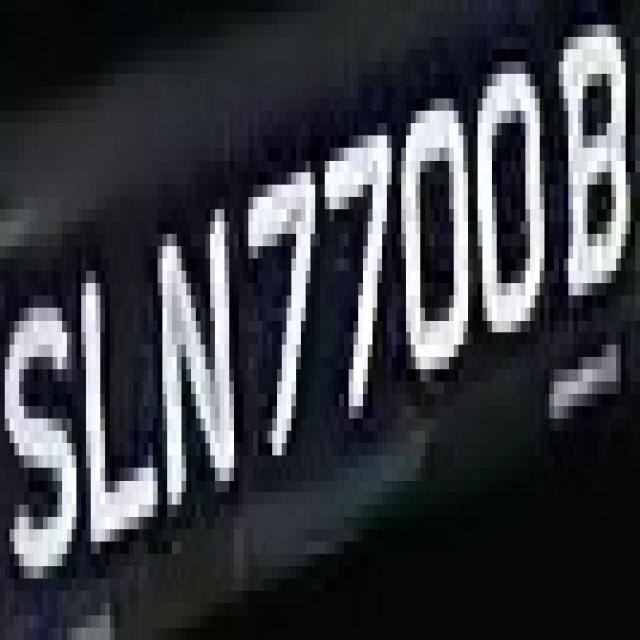0: (377, 98, 473, 394), (464, 74, 544, 381)
7: (224, 111, 320, 480), (306, 123, 396, 443)
B: (554, 12, 640, 332)
L: (67, 197, 157, 554)
N: (144, 197, 248, 517)
S: (0, 234, 72, 591)
